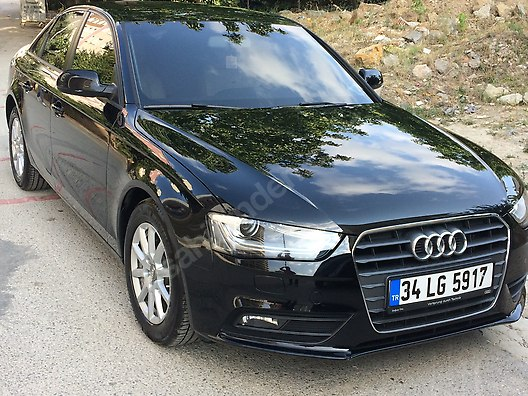audi: (407, 220, 467, 263)
